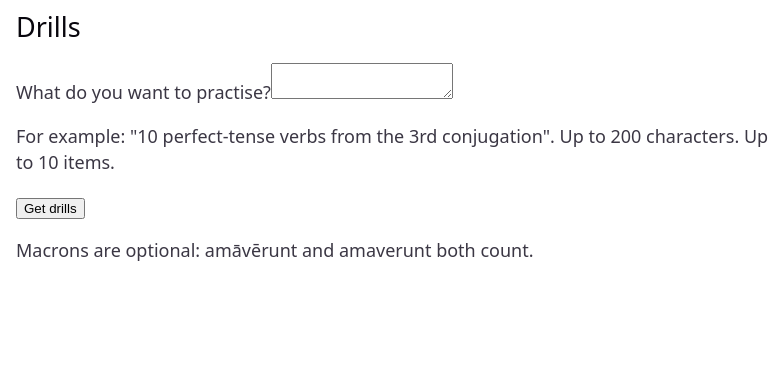
Scenario: shows a loading message while waiting, then removes it
This screenshot has width=784, height=377.
Later steps or results of the test are not shown.
Type "rex plural" into the text box labelled "What do you want to practise?" at (362, 81), box [271,63,453,99]
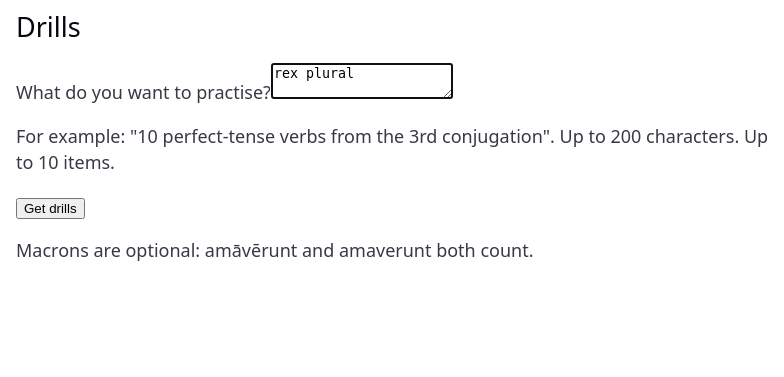
Click the button "Get drills" at (50, 209), box [16,198,85,219]
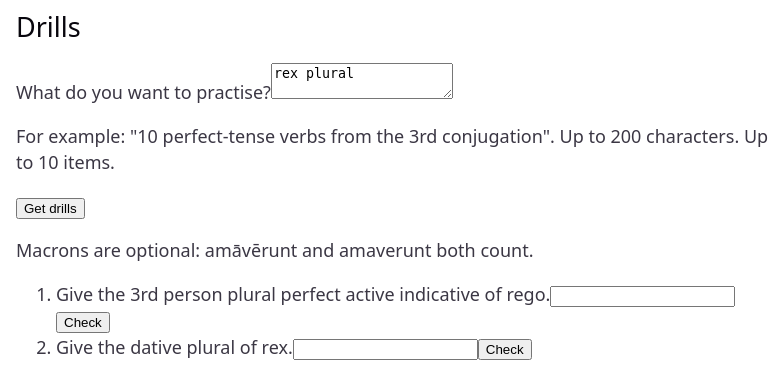
Check: the text "Give the 3rd person plural perfect active indicative of rego." is shown, box [56,282,735,306]
